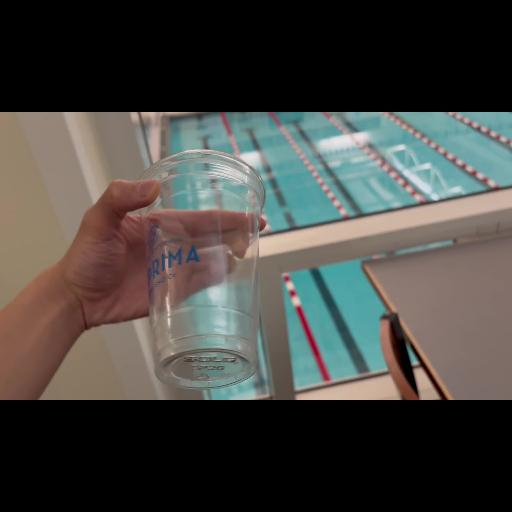lp_plastic_cup: (142, 145, 268, 393)
